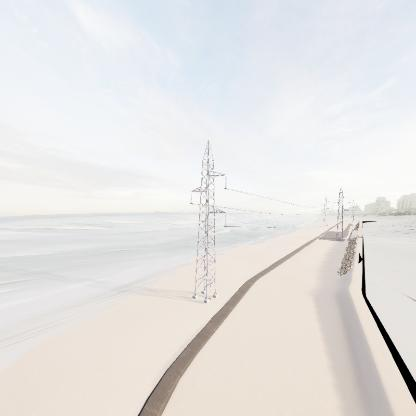tower: (187, 139, 228, 307)
